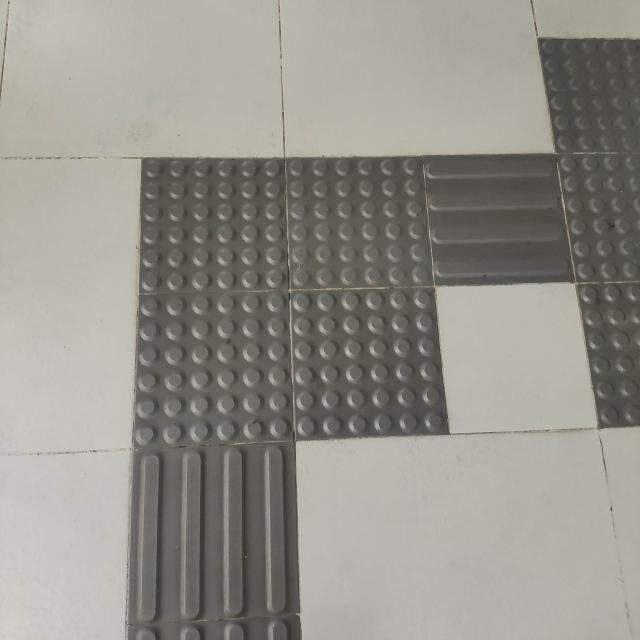kanan: (74, 115, 584, 494)
